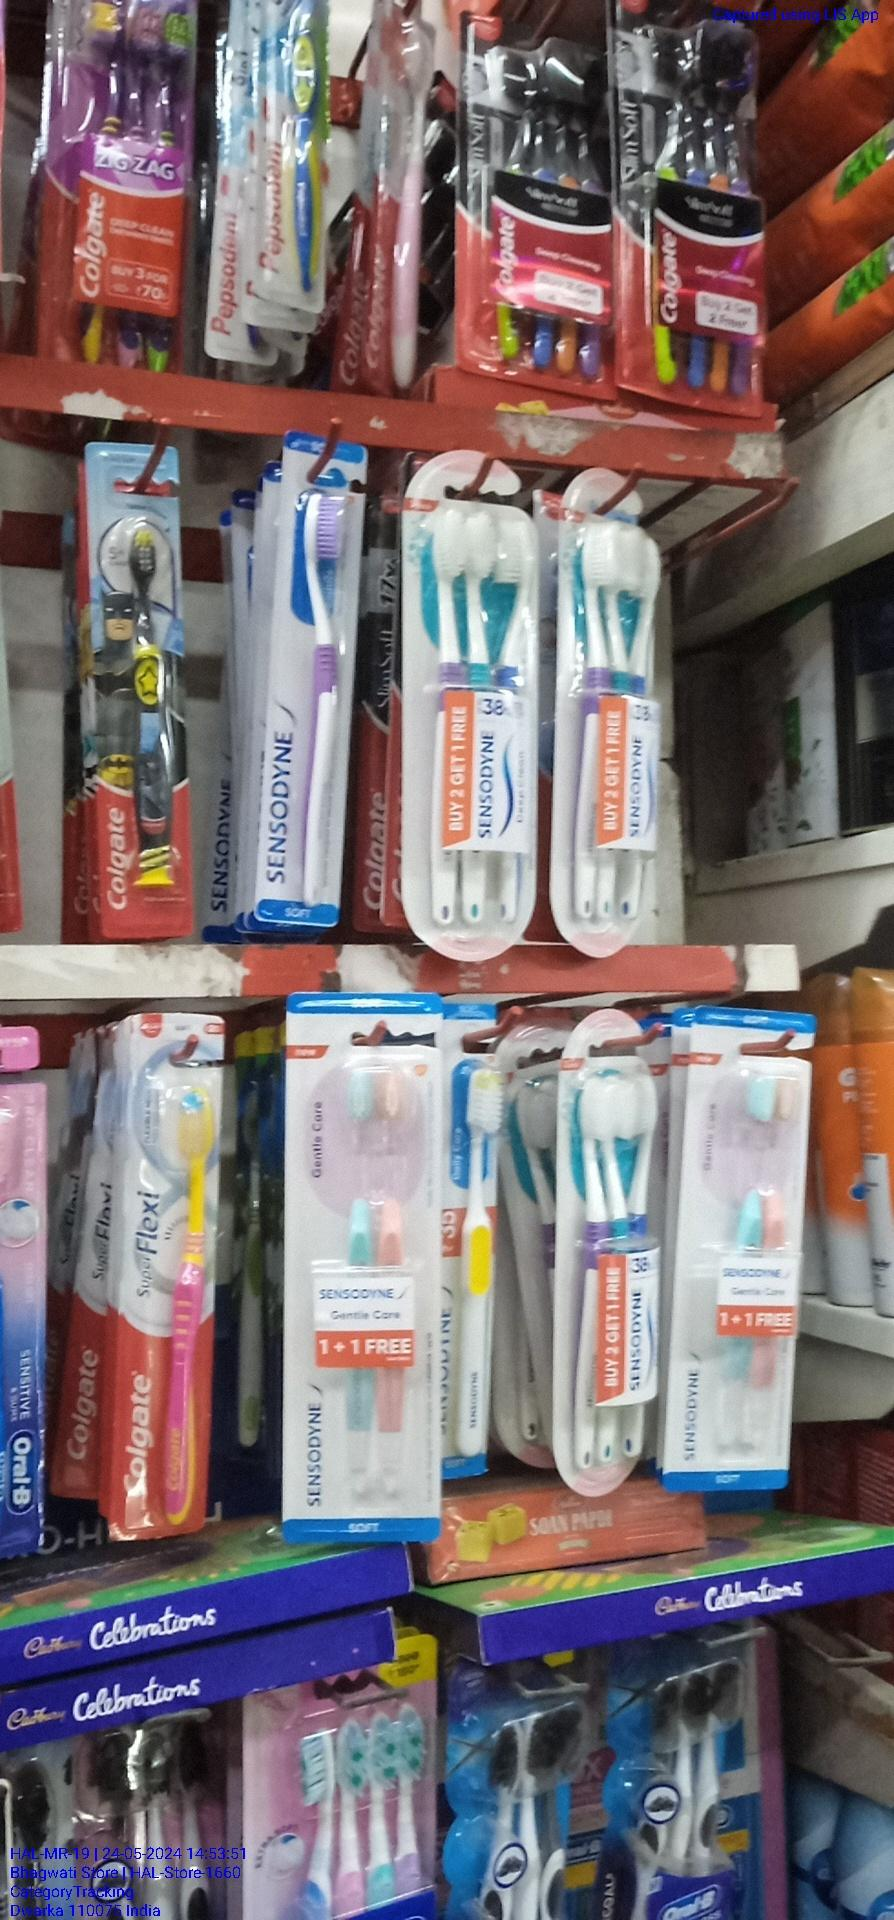5: (400, 449, 532, 959), (551, 467, 658, 958), (552, 1013, 655, 1496)
7: (285, 991, 441, 1539), (671, 1009, 800, 1491)
liquid soap: (452, 21, 612, 389), (620, 11, 765, 411)
